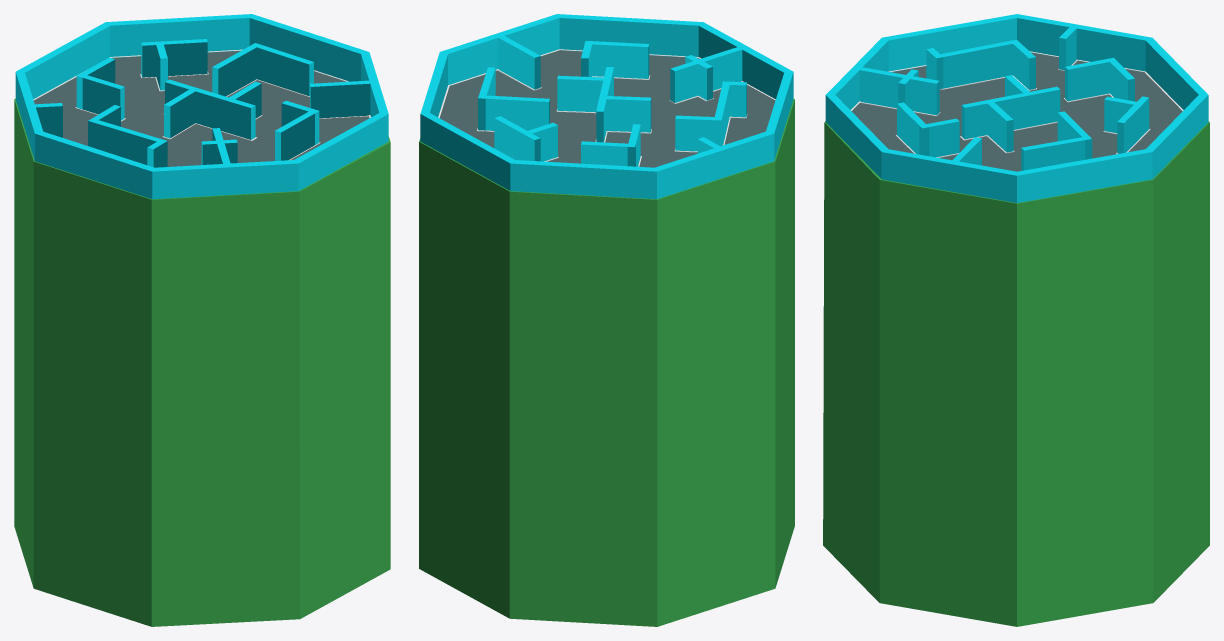
File: Level_12.FBX
The picture shows the model from 3 angles, left to right: view 1: azimuth 30°, elevation 25°; view 2: azimuth 150°, elevation 25°; view 3: azimuth 270°, elevation 25°; orthographic projection.
Parts seen in each view (by area): view 1: Level_12; view 2: Level_12; view 3: Level_12.
Boxes of the visible parts, x1,y1,x2,y2 form: Level_12: (14, 14, 390, 626); Level_12: (419, 14, 794, 626); Level_12: (823, 14, 1209, 626).
Size of the model in its own units: 138 by 178 by 139.
